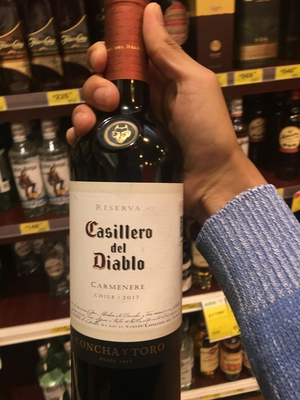casillero del diablo carmenere: (64, 23, 205, 400)
